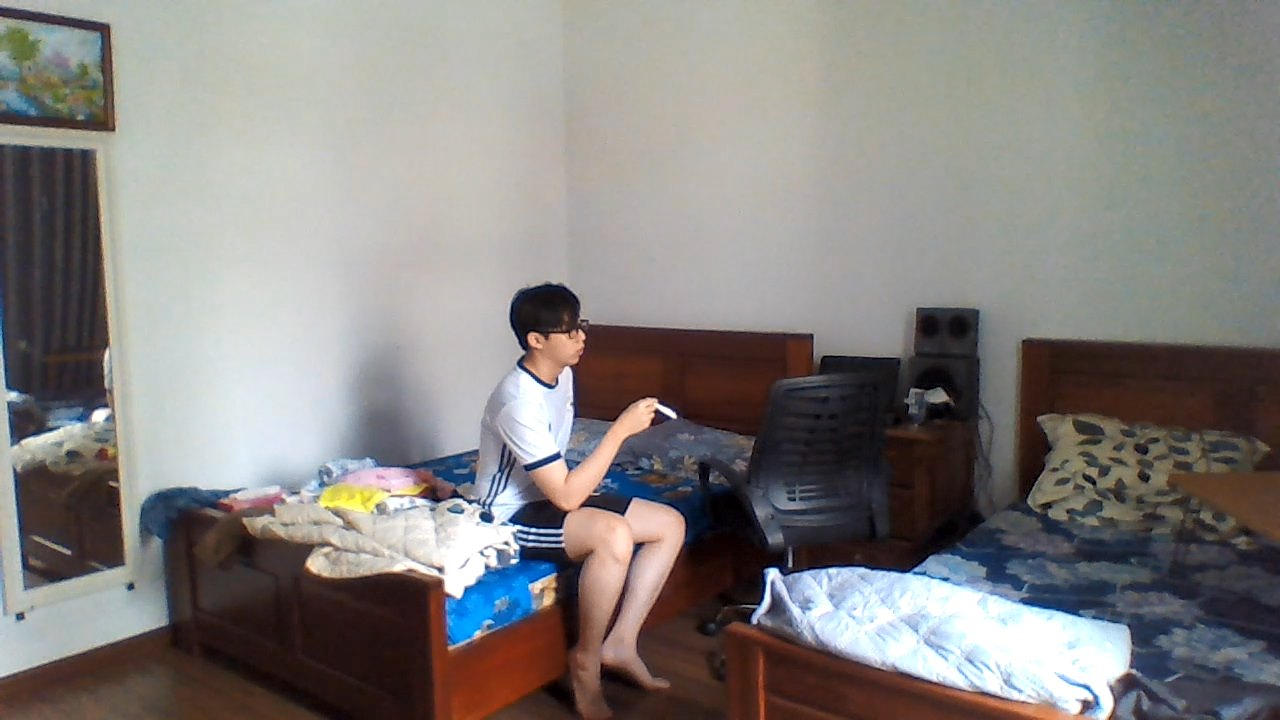cigarette: (656, 401, 679, 420)
person: (467, 266, 700, 720)
